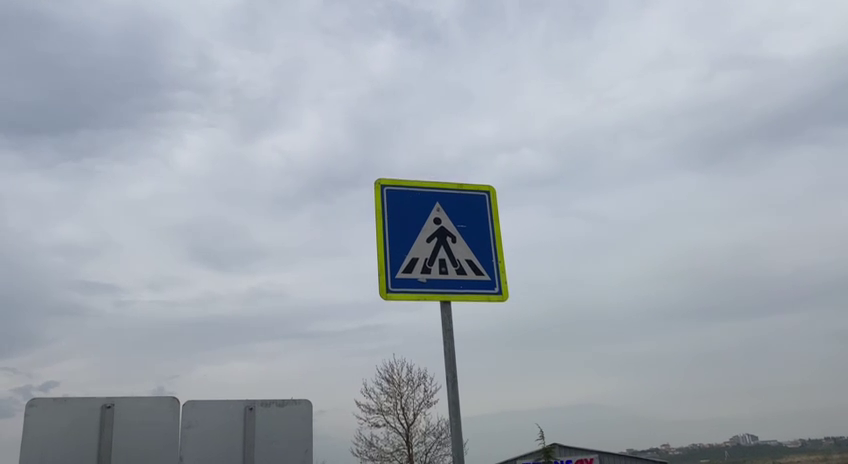pedestrianCrossing: (373, 175, 510, 304)
